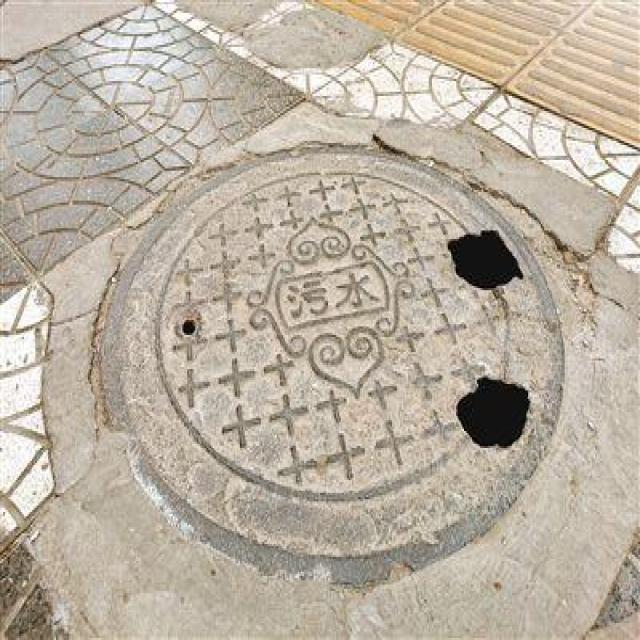manhole: (101, 149, 562, 579)
